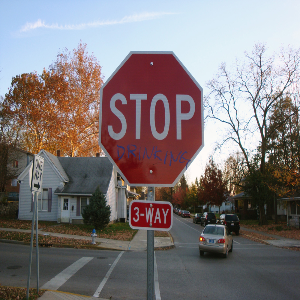STOP_SIGN: (99, 51, 204, 186)
